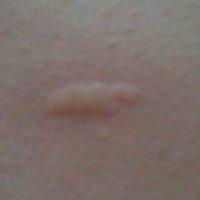Mosquito: (43, 82, 138, 118)
